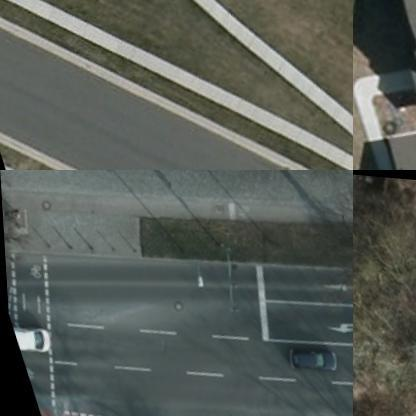car: (278, 334, 336, 378), (9, 320, 50, 360)
